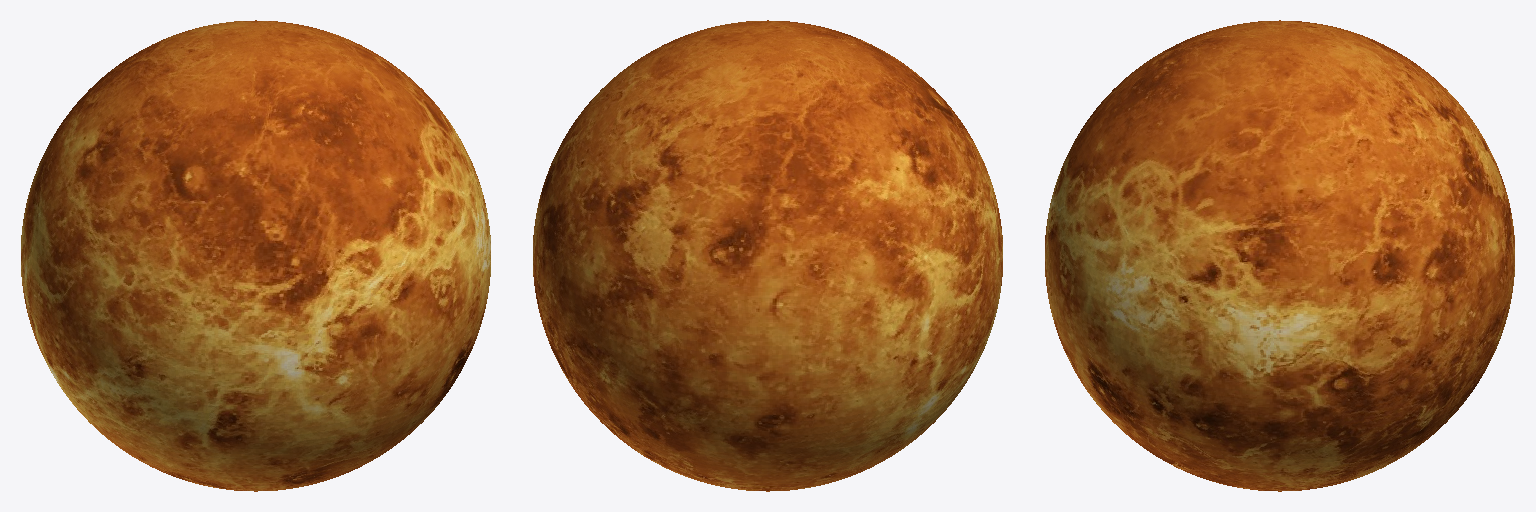
3 renders of one model, left to right at view 1: azimuth 30°, elevation 25°; view 2: azimuth 150°, elevation 25°; view 3: azimuth 270°, elevation 25°, orthographic.
Parts seen in each view (by area): view 1: cylindrically_mapped_sphere.001; view 2: cylindrically_mapped_sphere.001; view 3: cylindrically_mapped_sphere.001.
Part boxes in pixels (left/top/right/bottom): cylindrically_mapped_sphere.001: left=21, top=20, right=490, bottom=491; cylindrically_mapped_sphere.001: left=533, top=20, right=1002, bottom=491; cylindrically_mapped_sphere.001: left=1045, top=20, right=1514, bottom=491.
Bounding box in the file's own units: 1000 × 1000 × 1000.
Materials: 1 (1 with a texture image).